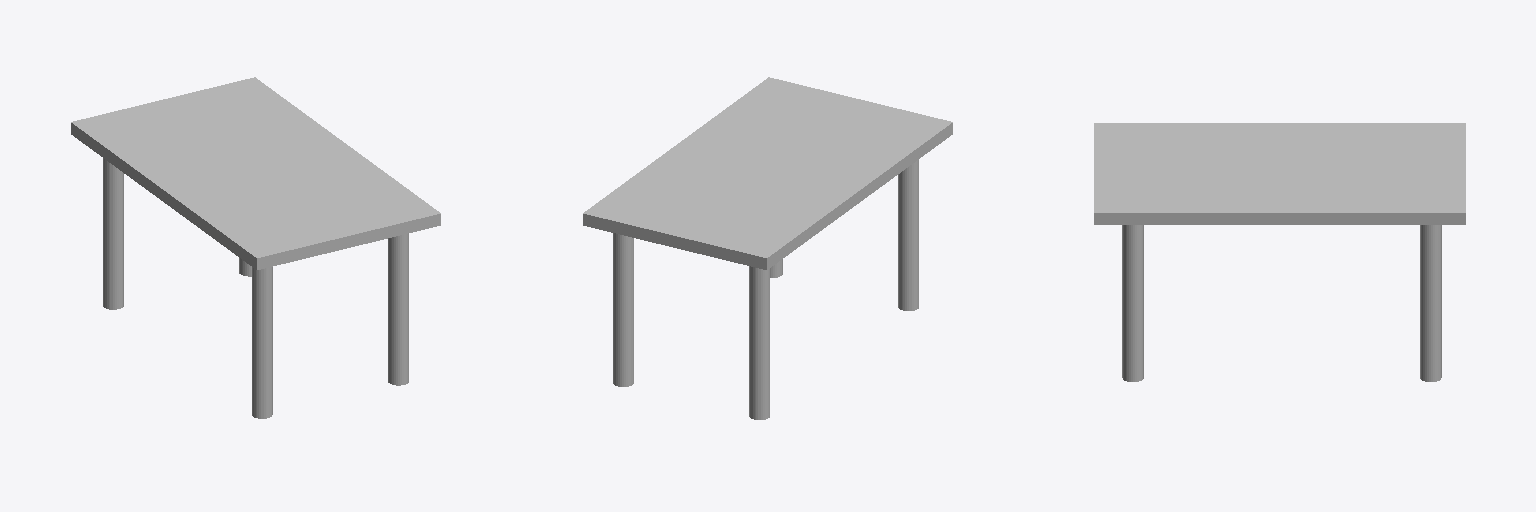
Rendered from 3DConnect4table.obj.
The picture shows the model from 3 angles: view 1: azimuth 30°, elevation 25°; view 2: azimuth 150°, elevation 25°; view 3: azimuth 270°, elevation 25°; orthographic projection.
Parts seen in each view (by area): view 1: Cube; view 2: Cube; view 3: Cube.
Part boxes in pixels (bbox=[...]): Cube: bbox=[71, 77, 440, 418]; Cube: bbox=[583, 77, 952, 419]; Cube: bbox=[1094, 123, 1465, 381].
Size of the model in its own units: 0.8 by 0.7318 by 1.4.